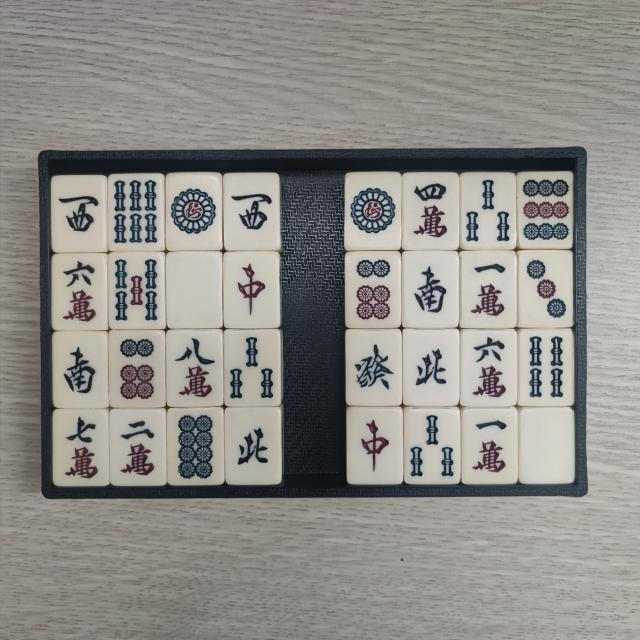hdg: (352, 334, 398, 400)
hdr: (230, 256, 273, 324), (354, 414, 396, 481)
hdw: (174, 256, 220, 324), (528, 412, 572, 477)
hwn: (228, 413, 274, 479), (410, 334, 454, 399)
hws: (408, 257, 453, 322), (58, 337, 102, 402)
hww: (56, 180, 102, 248), (228, 177, 274, 245)
sb3: (466, 176, 514, 246), (408, 412, 456, 480), (228, 334, 276, 402)
sb4: (524, 333, 568, 402)
sb5: (113, 254, 160, 326)
sb6: (112, 178, 160, 247)
sc1: (467, 256, 512, 324), (470, 414, 512, 479)
sc2: (116, 413, 160, 479)
sc4: (408, 179, 454, 246)
sc6: (467, 334, 511, 402), (60, 258, 103, 326)
sc7: (60, 413, 104, 482)
sc8: (172, 333, 220, 401)
sd1: (169, 178, 218, 247), (348, 178, 396, 246)
sd3: (526, 256, 572, 324)
sd6: (116, 334, 160, 402), (352, 256, 394, 323)
sd8: (174, 412, 219, 481)
sd9: (522, 179, 572, 247)
